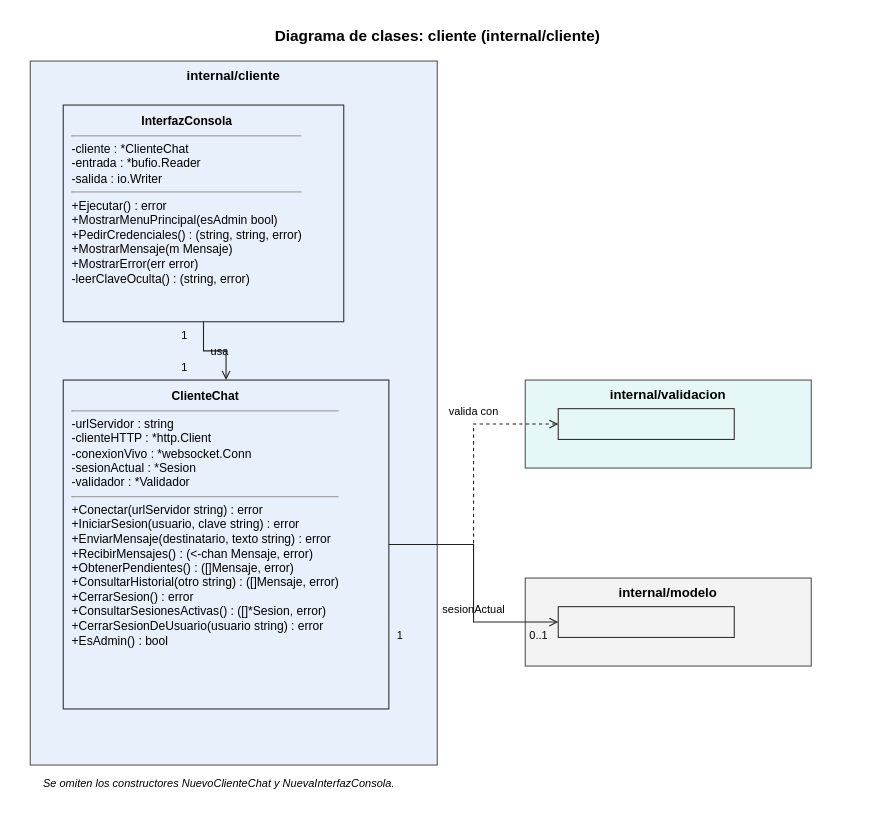
Some shapes in this 873 by 832 pixel diagram are drawn without their labels. The shapes that lost their labels are listed below. From the top down, each one's centre as x and y in pixels, then its label:
[645,423]: Validador
[645,621]: Sesion
